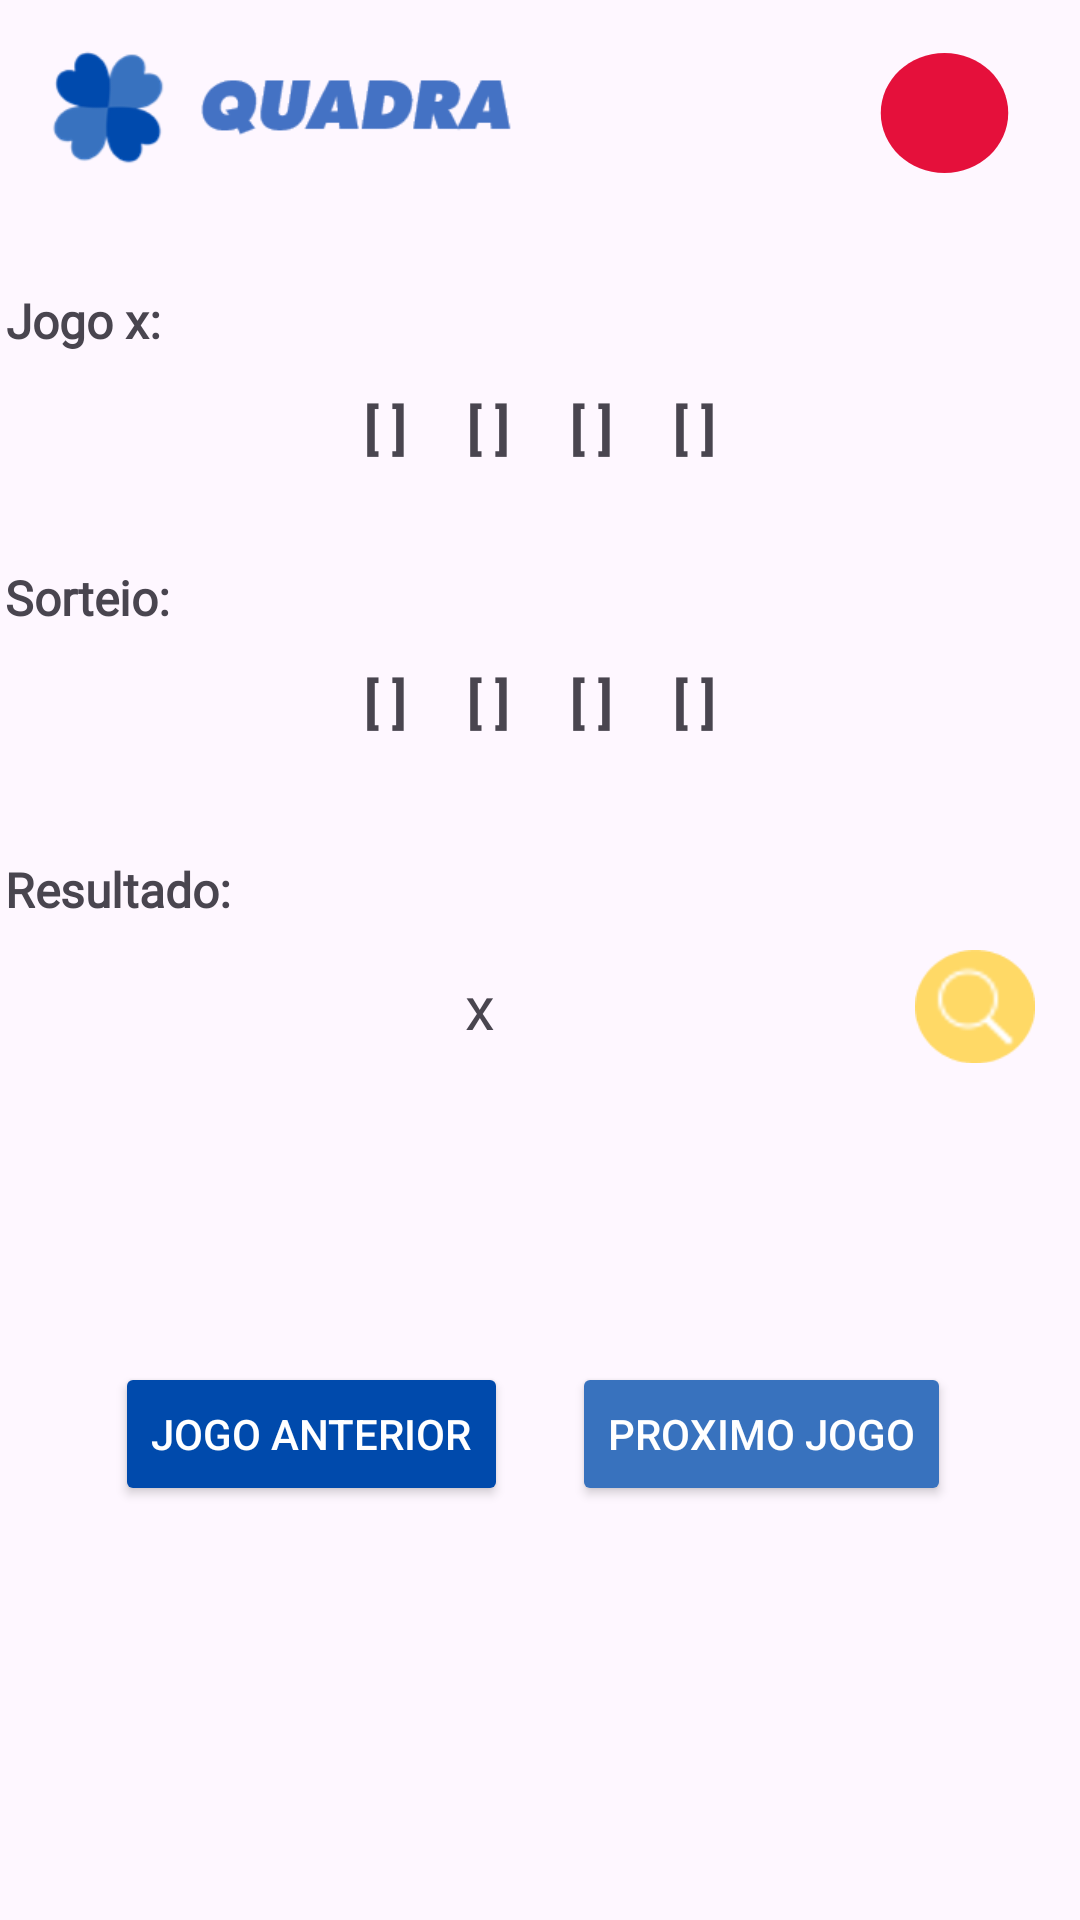

Screen size 1080×1920. Icon name, then its center in pixels as [x,y]:
style conferidor: [975,1006]
